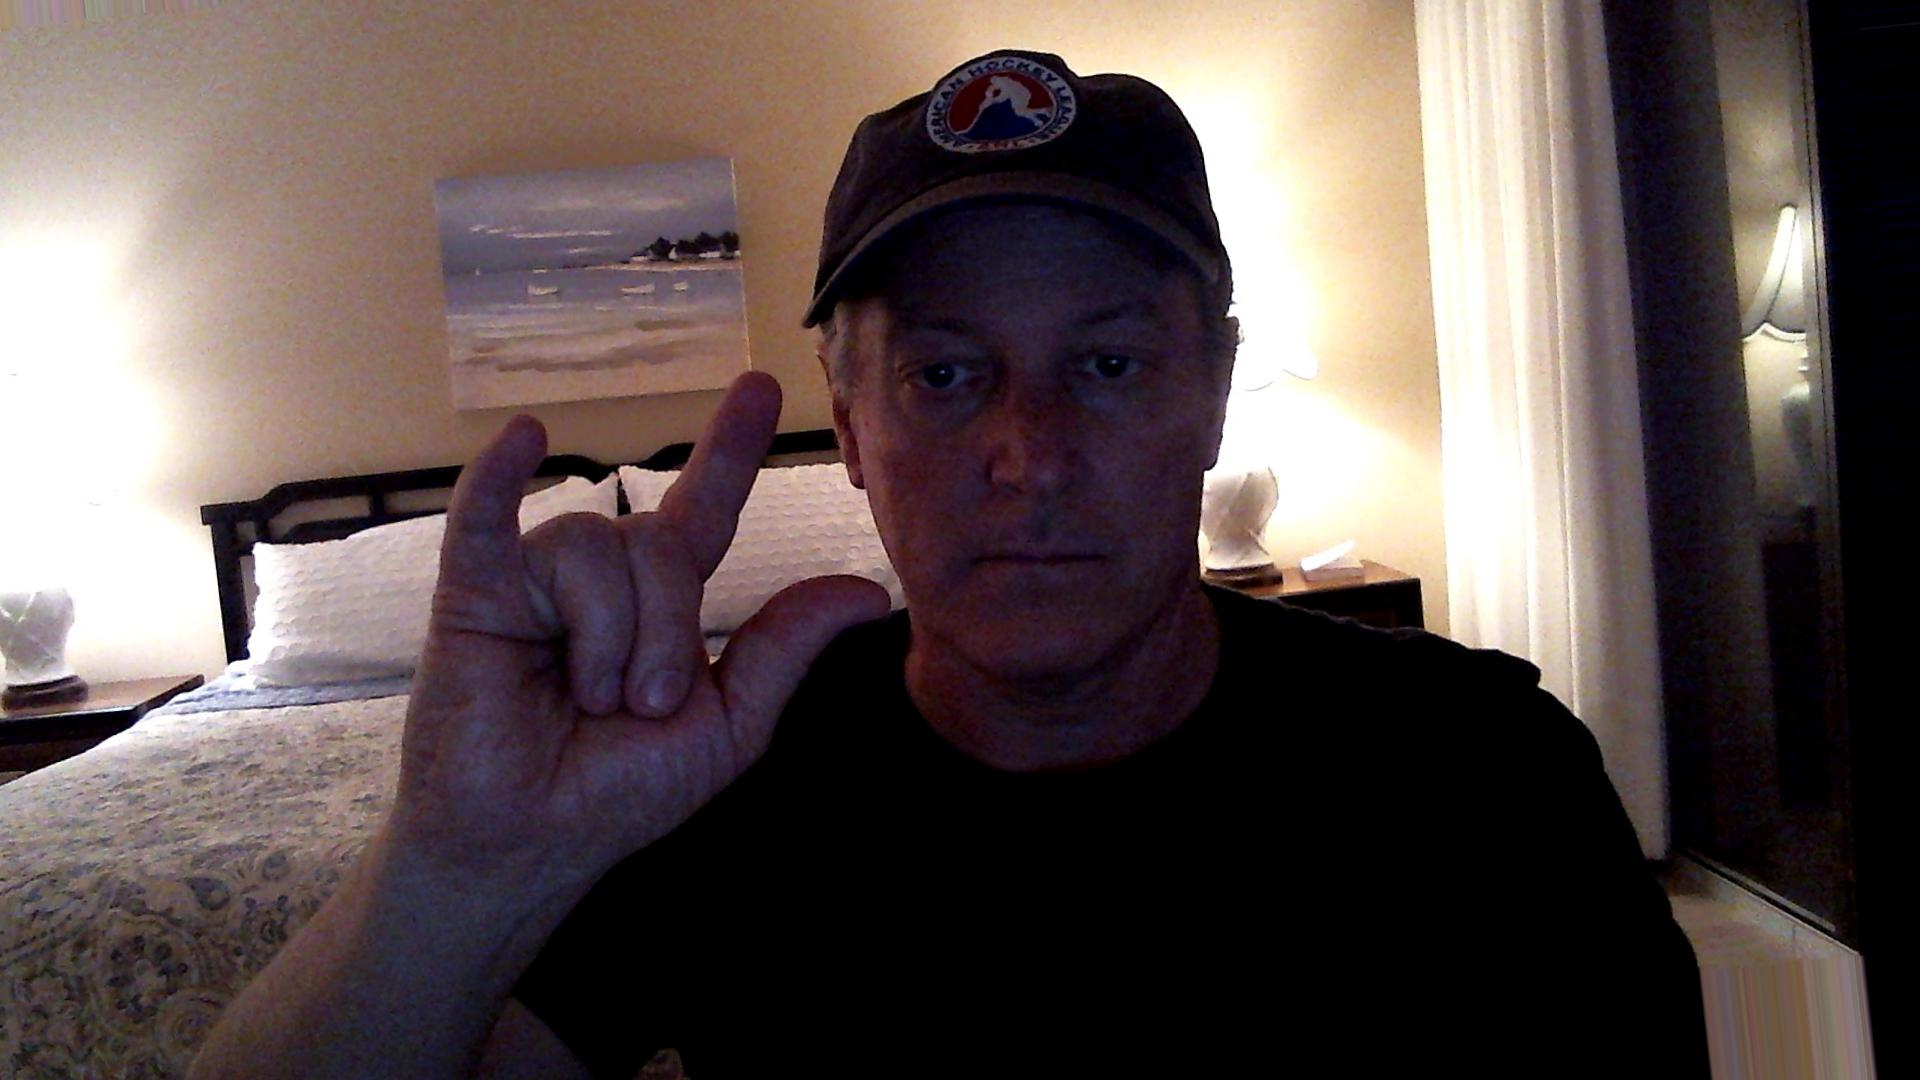I Love You: (401, 368, 905, 864)
